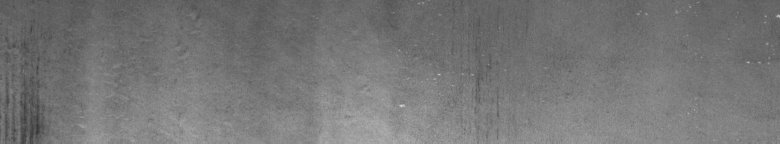ka: (4, 26, 122, 136)
